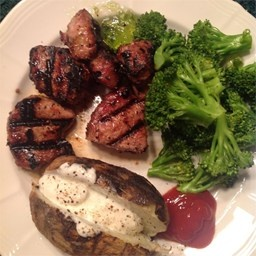background: (2, 3, 102, 102)
